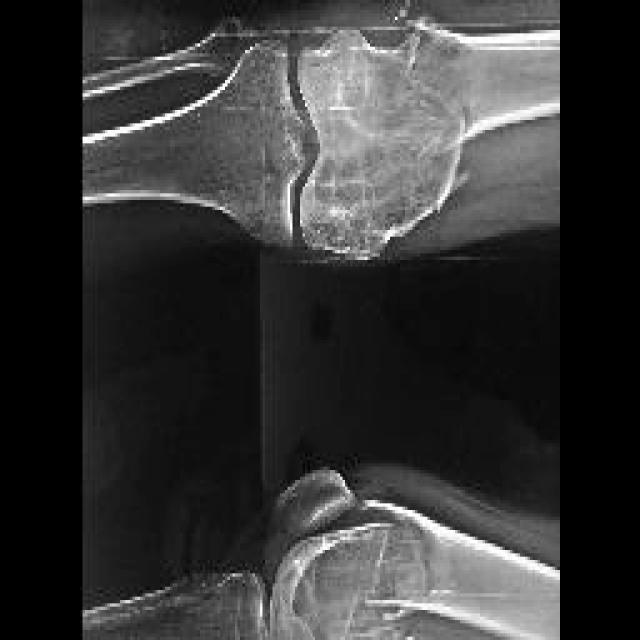bone-cancer: (304, 0, 475, 265), (285, 492, 441, 640)
